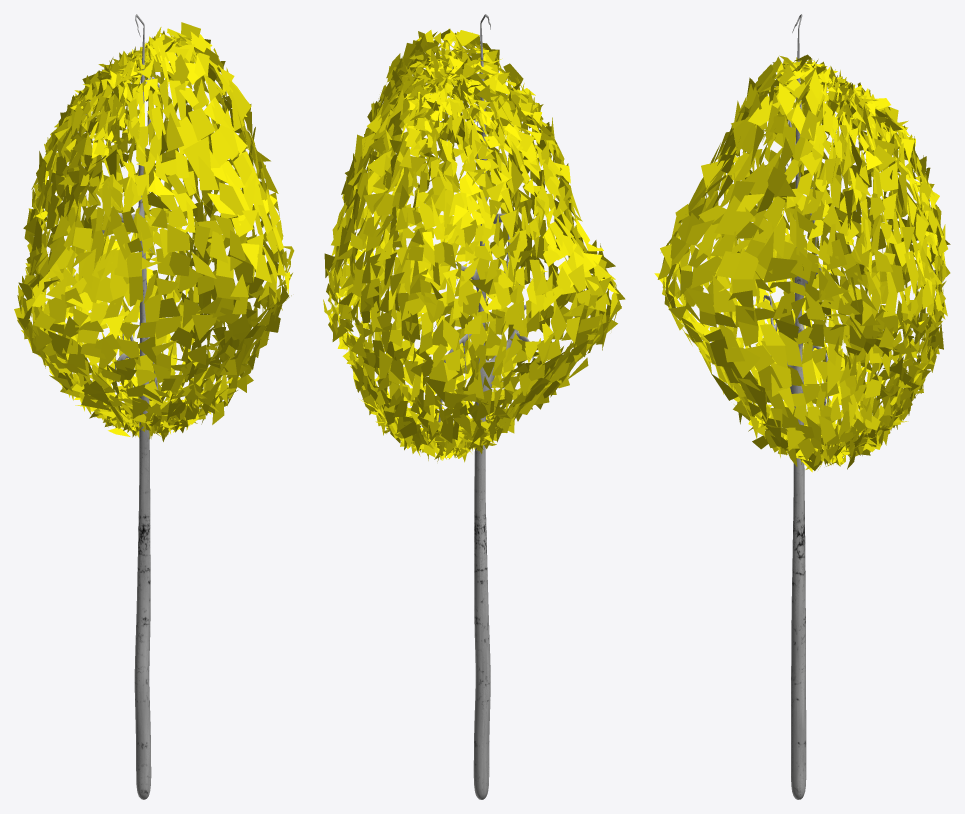
Rendered from Leaves35.001.fbx.
3 views of the same model, side by side, from view 1: azimuth 30°, elevation 25°; view 2: azimuth 150°, elevation 25°; view 3: azimuth 270°, elevation 25° (orthographic).
Parts seen in each view (by area): view 1: Leaves35.001; view 2: Leaves35.001; view 3: Leaves35.001.
Boxes of the visible parts, x1,y1,x2,y2 form: Leaves35.001: (14, 14, 294, 799); Leaves35.001: (323, 14, 625, 799); Leaves35.001: (654, 14, 950, 799).
Size of the model in its own units: 859 by 2612 by 896.
Materials: 2 (1 with a texture image).
